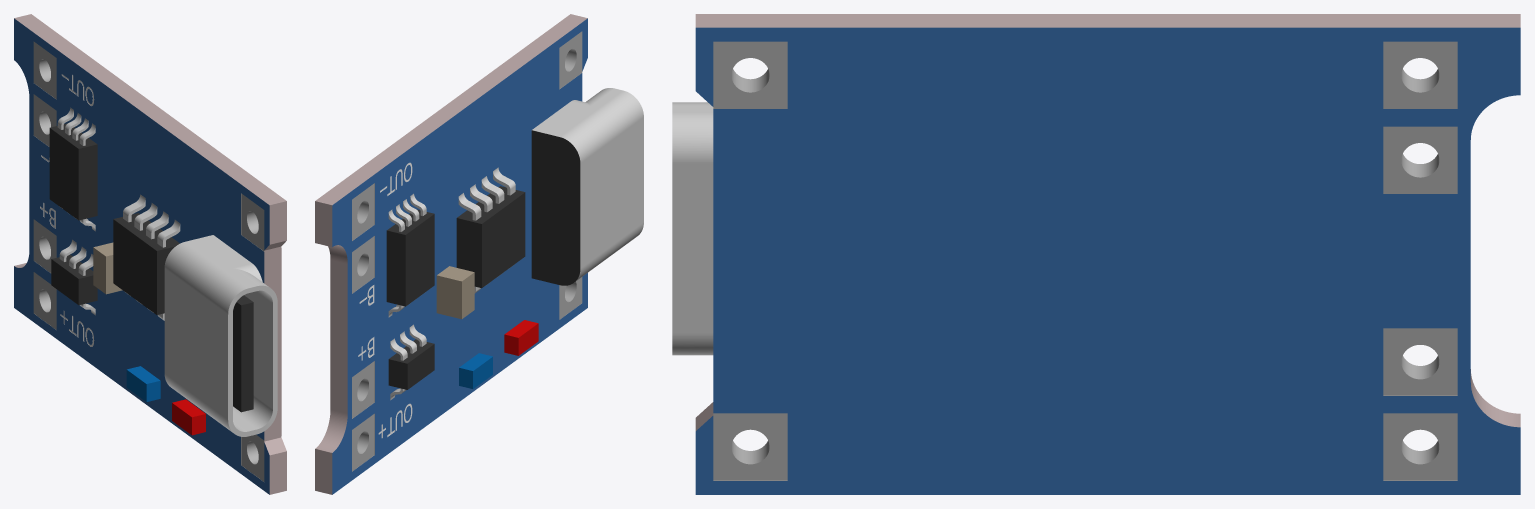
File: PCB TP_4056.obj
3 renders of one model, left to right at view 1: azimuth 30°, elevation 25°; view 2: azimuth 150°, elevation 25°; view 3: azimuth 270°, elevation 25°, orthographic. The views are drawn at different scales.
Parts seen in each view (by area): view 1: PCB TP_4056; view 2: PCB TP_4056; view 3: PCB TP_4056.
Boxes of the visible parts, x1=… form: PCB TP_4056: x1=14, y1=14, x2=286, y2=494; PCB TP_4056: x1=315, y1=14, x2=643, y2=494; PCB TP_4056: x1=672, y1=14, x2=1520, y2=494.
Size of the model in its own units: 4.2 by 17.6 by 28.95.
